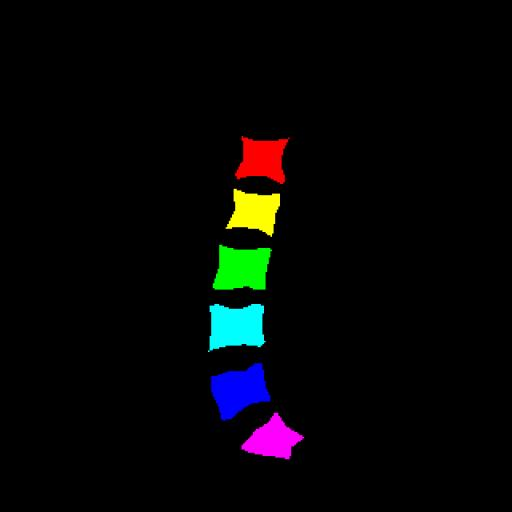L1: (235, 137, 288, 184)
L2: (226, 189, 280, 236)
L3: (213, 245, 271, 290)
L4: (209, 304, 265, 351)
L5: (211, 363, 270, 420)
S1: (242, 413, 303, 458)
